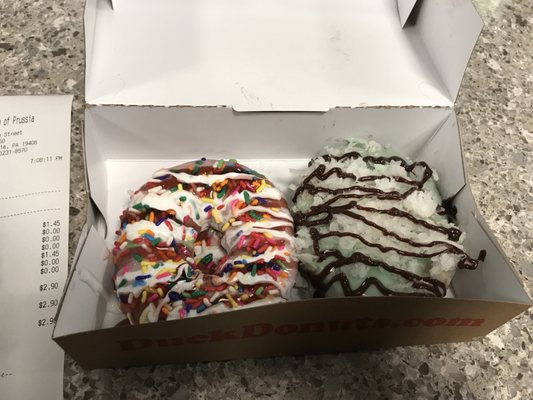soup: (290, 135, 483, 298)
